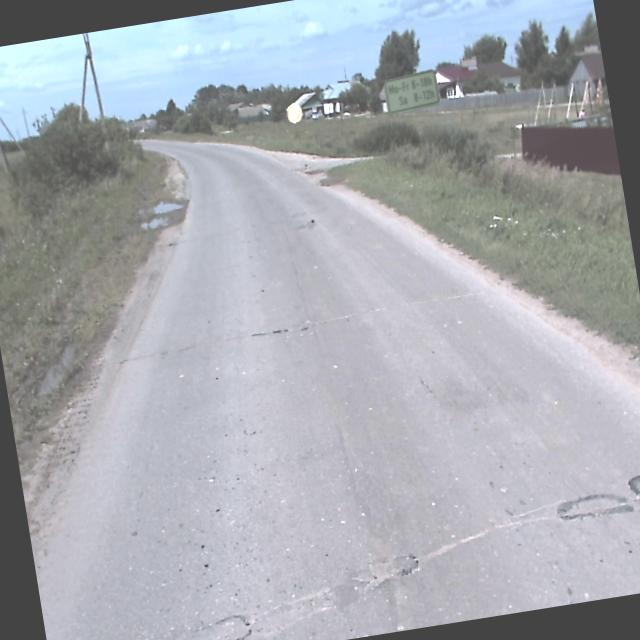road: (35, 140, 640, 640)
